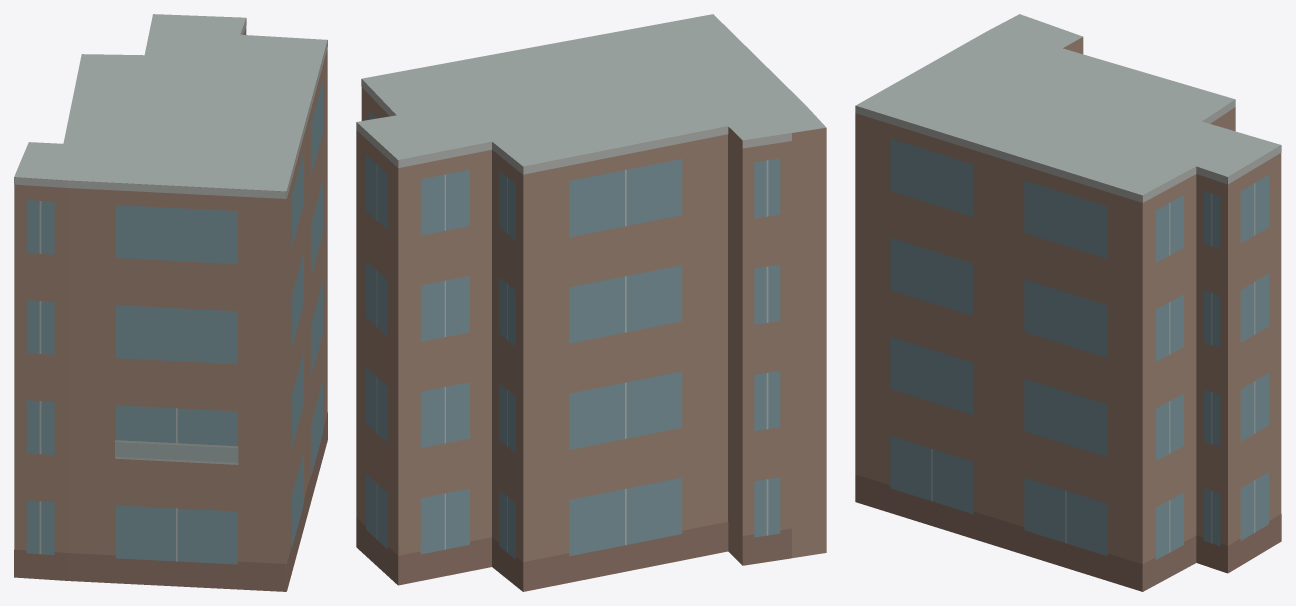
The model's file is survey-upis-32754904.glb.
3 renders of one model, left to right at view 1: azimuth 30°, elevation 25°; view 2: azimuth 150°, elevation 25°; view 3: azimuth 270°, elevation 25°, orthographic. The views are drawn at different scales.
Parts seen in each view (by area): view 1: survey-upis-32754904.tmp; view 2: survey-upis-32754904.tmp; view 3: survey-upis-32754904.tmp.
Part boxes in pixels (x1,y1,x2,y2): survey-upis-32754904.tmp: [14, 14, 327, 591]; survey-upis-32754904.tmp: [356, 14, 826, 591]; survey-upis-32754904.tmp: [855, 14, 1281, 591].
Size of the model in its own units: 12.67 by 12.9 by 12.57.
